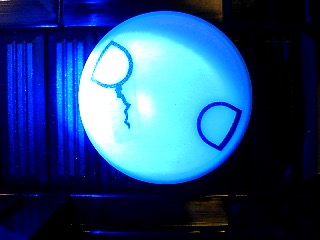CRACK: (77, 11, 253, 184)
